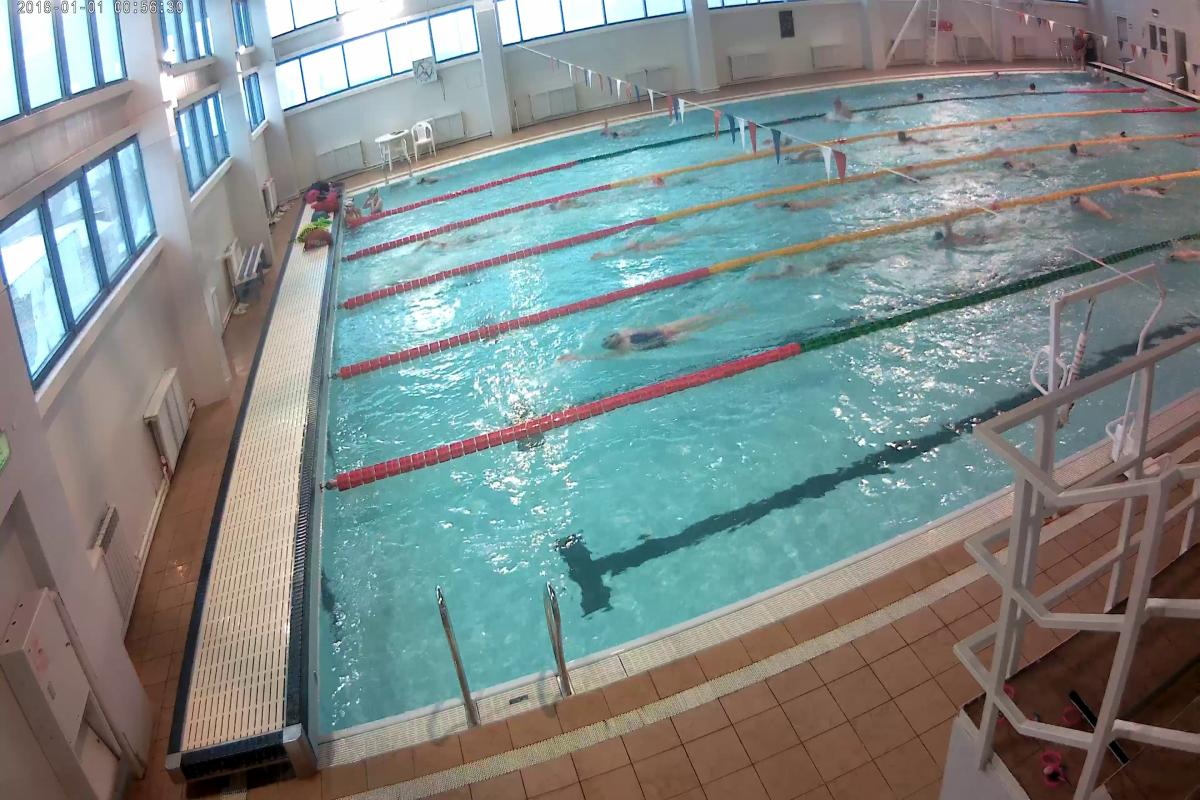swimmer: (553, 305, 723, 364), (762, 183, 854, 223), (770, 254, 872, 289), (594, 237, 670, 270), (916, 227, 1006, 248), (986, 153, 1047, 172), (1064, 190, 1105, 216), (1060, 141, 1108, 160), (892, 129, 933, 150)
